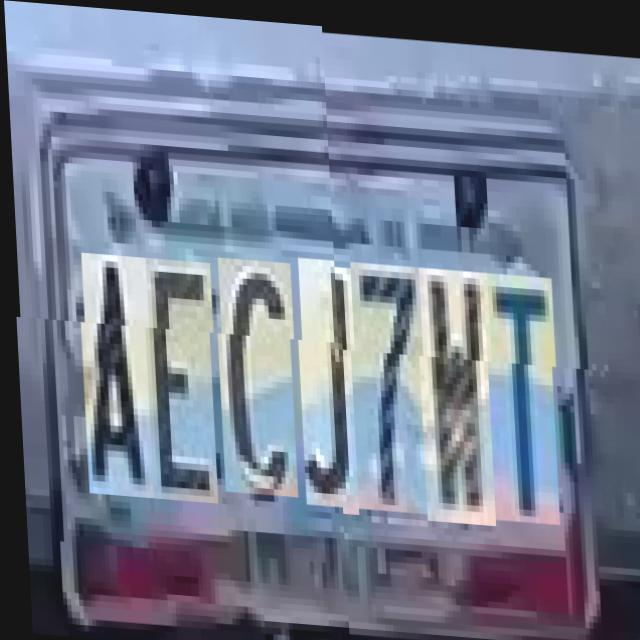7: (348, 256, 427, 508)
A: (78, 258, 152, 503)
C: (215, 260, 298, 500)
E: (143, 262, 217, 507)
J: (296, 260, 358, 510)
T: (484, 265, 559, 516)
W: (416, 261, 495, 518)
